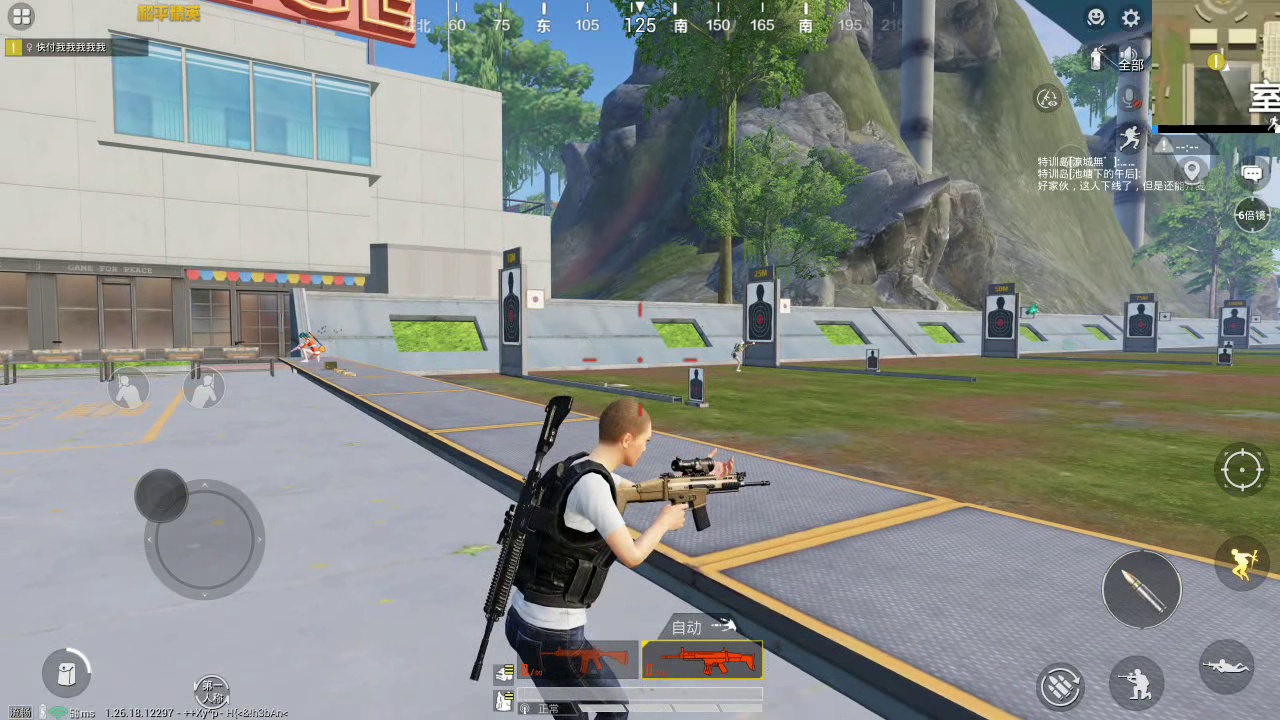enemy: (295, 329, 324, 363), (732, 338, 750, 372)
